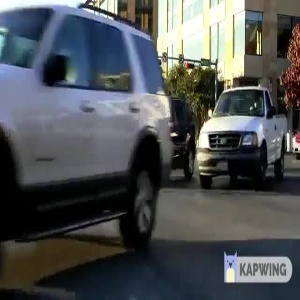suv: (1, 5, 174, 273)
truck: (193, 74, 295, 192)
